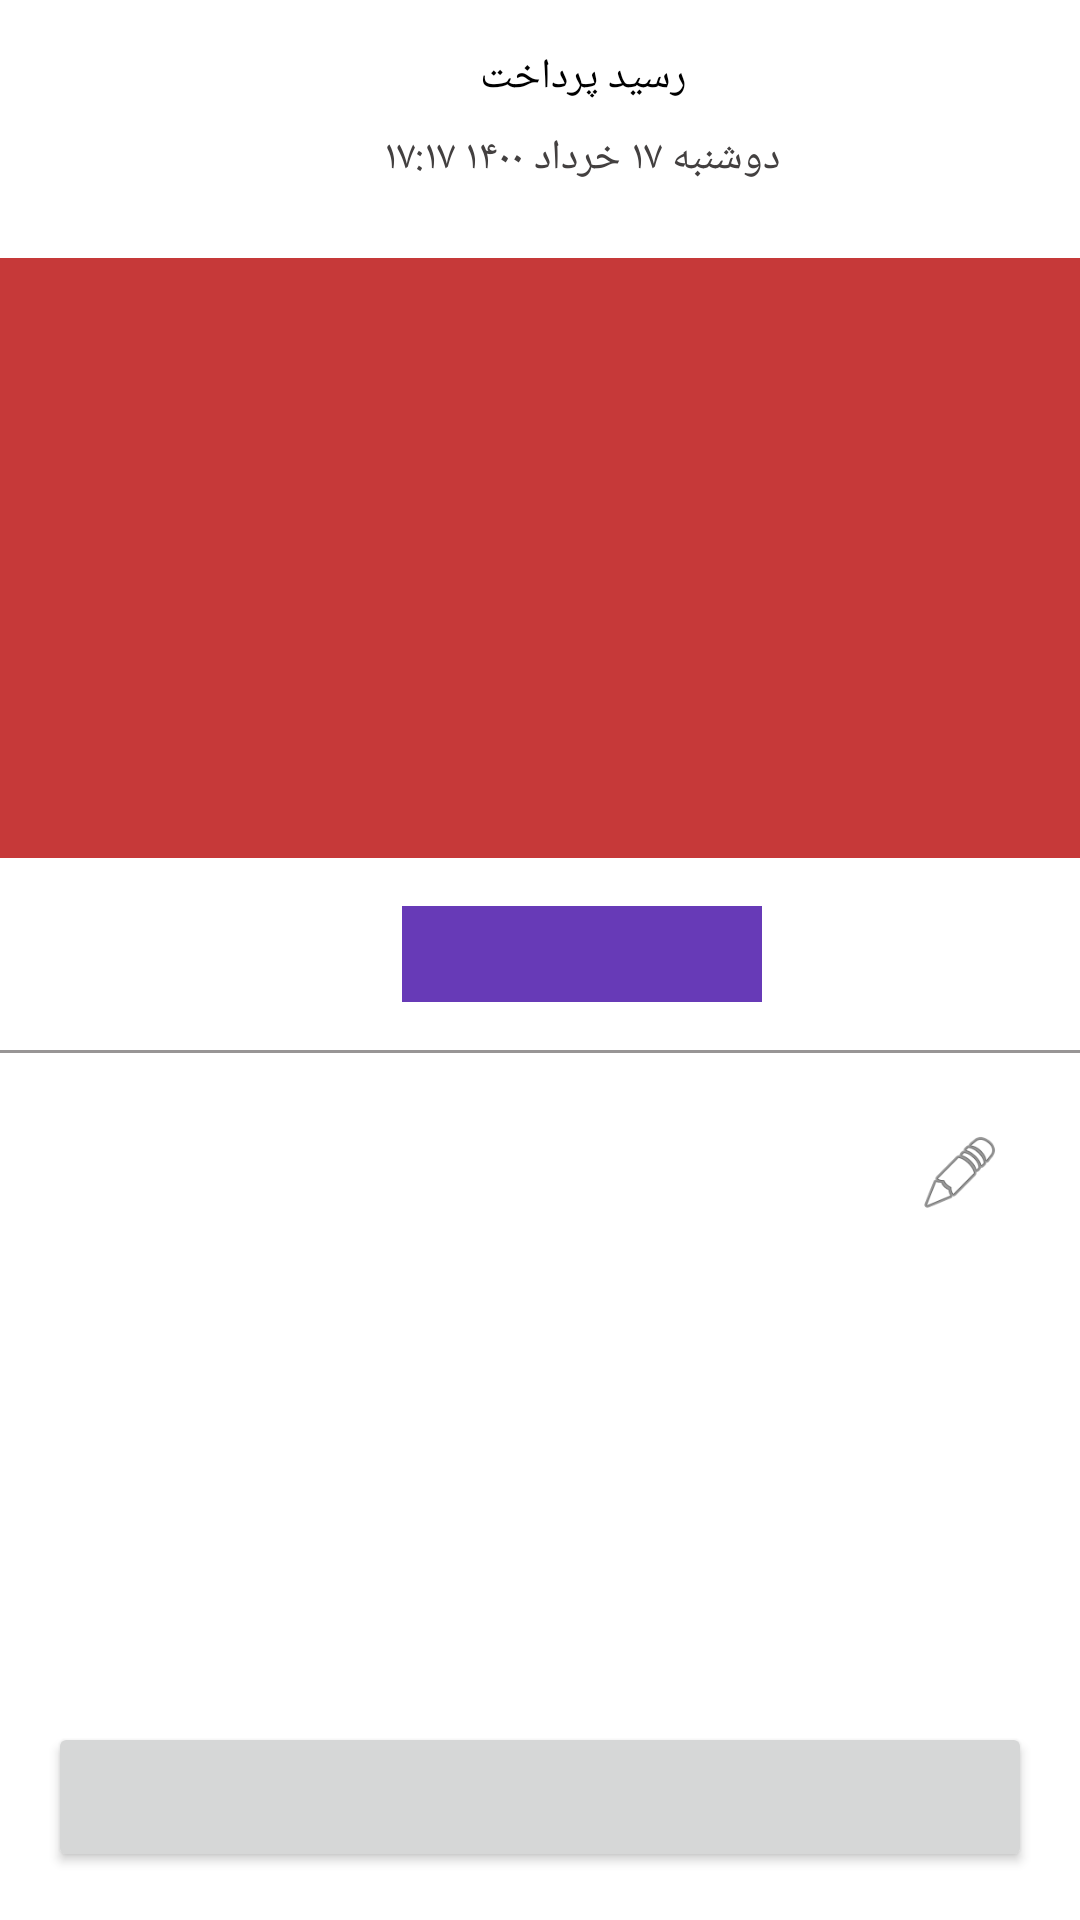

Locate icon controls on the screen. Image size 1080px x 1920px, boxes as [x1=x1, y1=y1, x2=x2, y2=y2].
edit: [x1=924, y1=1137, x2=995, y2=1208]
